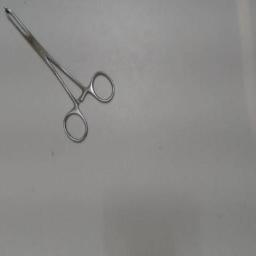Allis Tissue Forceps: (1, 3, 119, 147)
